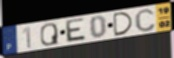0: (88, 14, 108, 40)
1: (22, 25, 32, 50)
C: (134, 7, 157, 33)
D: (112, 11, 135, 38)
E: (65, 17, 88, 44)
Q: (40, 22, 60, 47)
